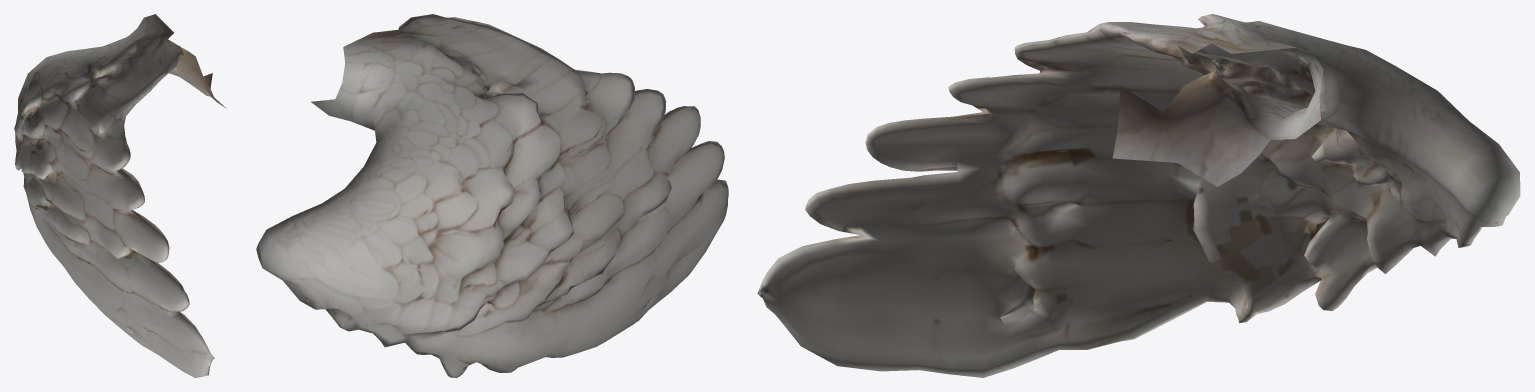
File: hawk_wing.obj
The picture shows the model from 3 angles, left to right: view 1: azimuth 30°, elevation 25°; view 2: azimuth 150°, elevation 25°; view 3: azimuth 270°, elevation 25°; orthographic projection. The views are drawn at different scales.
Parts seen in each view (by area): view 1: Object001; view 2: Object001; view 3: Object001.
Part boxes in pixels (left/top/right/bottom): Object001: left=14, top=14, right=226, bottom=377; Object001: left=256, top=14, right=728, bottom=377; Object001: left=757, top=14, right=1520, bottom=377.
Bounding box in the file's own units: 50.8 × 72.4 × 123.
1 material, 1 textured.
